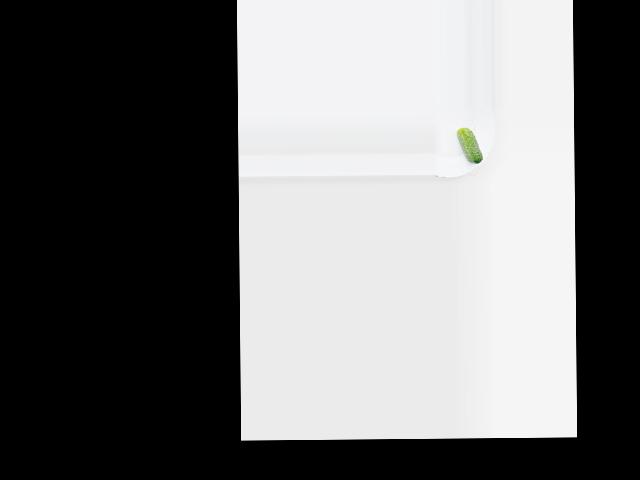cucumber: (456, 127, 482, 163)
